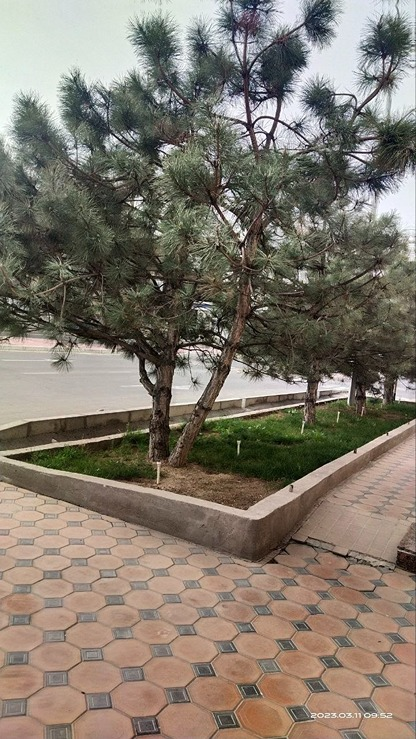tree: (0, 0, 416, 505)
